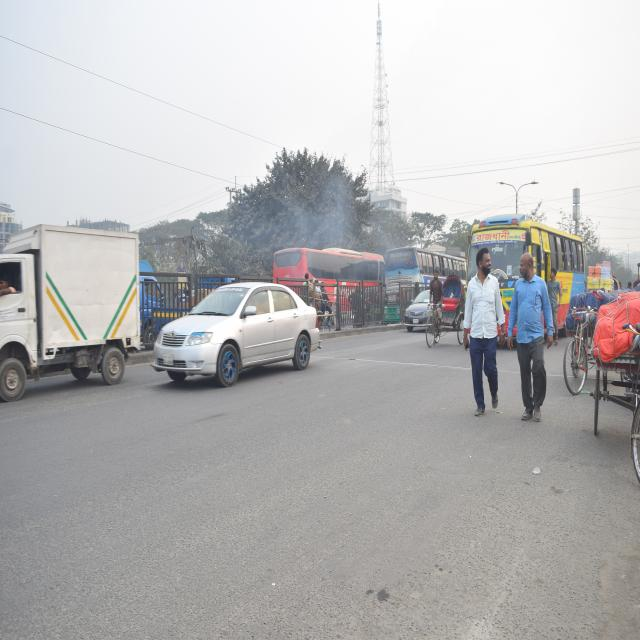bus: (464, 207, 584, 330), (273, 246, 399, 324), (386, 250, 484, 328)
car: (153, 268, 340, 384), (405, 288, 435, 333)
pickup-van: (0, 219, 163, 386)
